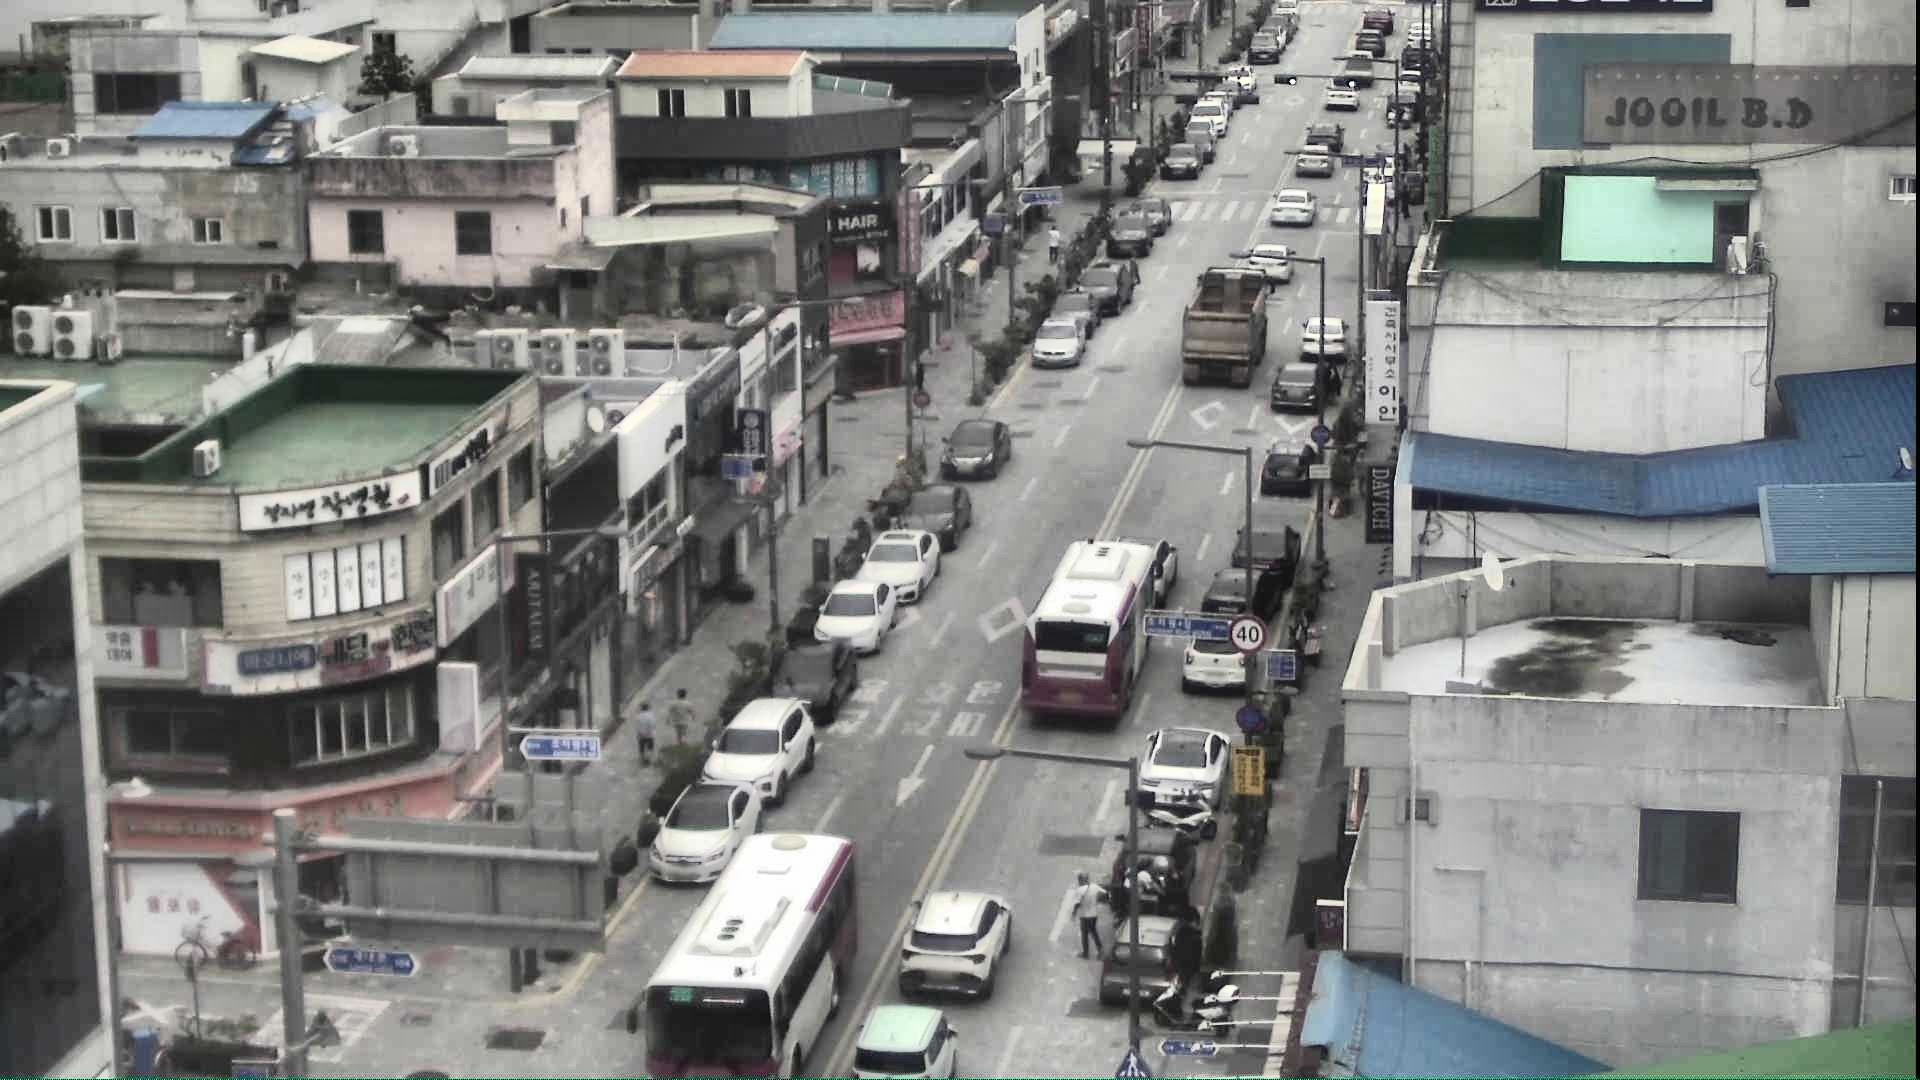jaywalk: (1067, 870, 1105, 957)
sidewalk: (670, 690, 695, 752), (636, 705, 653, 766), (1046, 223, 1064, 266)
